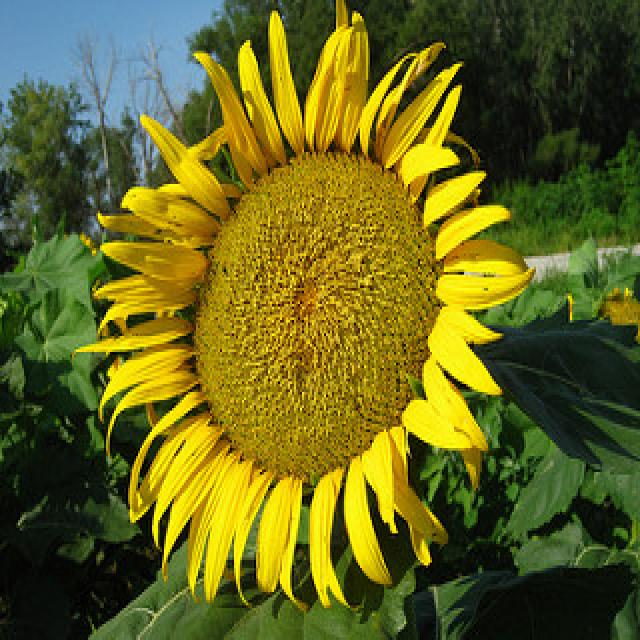sunflower: (66, 6, 540, 614)
